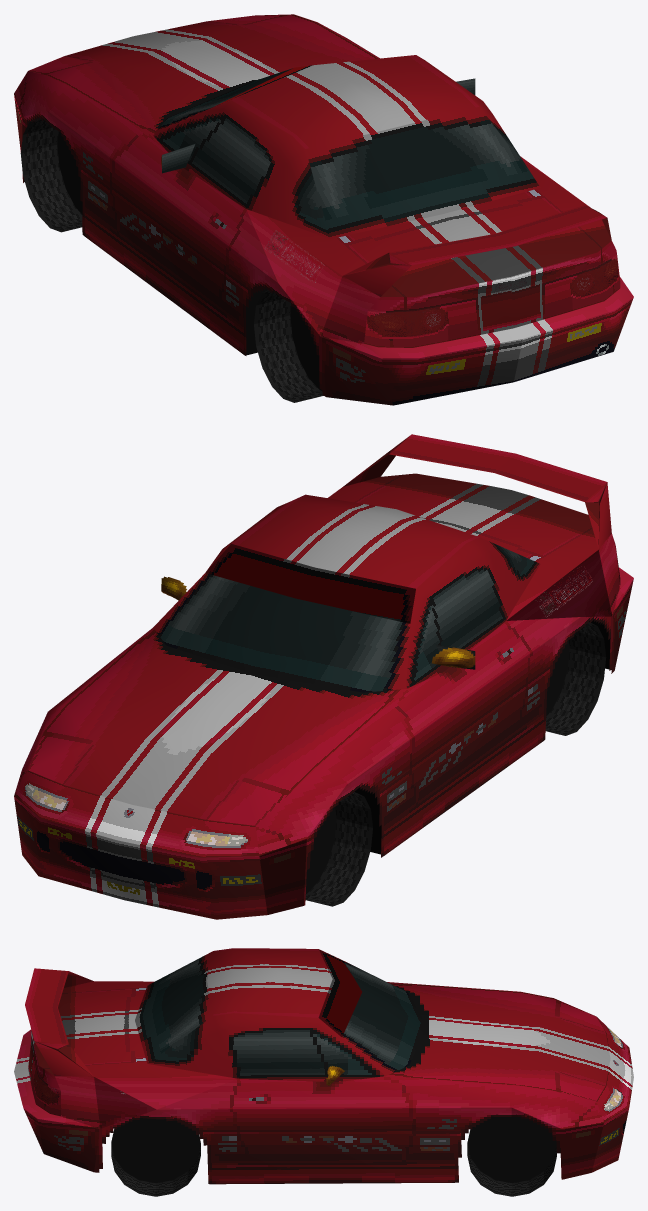
File: GT_SIMULATION__AS16R.glb
The picture shows the model from 3 angles, top to bottom: view 1: azimuth 30°, elevation 25°; view 2: azimuth 150°, elevation 25°; view 3: azimuth 270°, elevation 25°; orthographic projection. The views are drawn at different scales.
Visible parts, largest first — view 1: Native body LOD0, Native wheel 2, Native wheel 0; view 2: Native body LOD0, Native wheel 0, Native wheel 2; view 3: Native body LOD0, Native wheel 1, Native wheel 3.
Part boxes in pixels (bbox=[...]): Native body LOD0: bbox=[14, 14, 633, 405]; Native wheel 2: bbox=[254, 290, 323, 402]; Native wheel 0: bbox=[20, 118, 82, 232]; Native body LOD0: bbox=[14, 434, 633, 919]; Native wheel 0: bbox=[305, 792, 372, 906]; Native wheel 2: bbox=[545, 622, 606, 735]; Native body LOD0: bbox=[14, 948, 633, 1184]; Native wheel 1: bbox=[467, 1116, 556, 1196]; Native wheel 3: bbox=[111, 1118, 200, 1196].
Size of the model in its own units: 1.76 by 1.19 by 3.95.
Materials: 14 (13 with a texture image).
